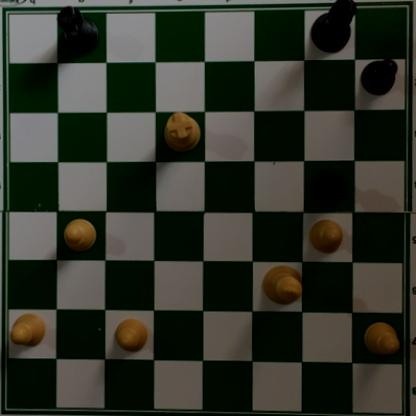black-bishop: (308, 169, 347, 208)
black-king: (309, 1, 358, 54)
black-pawn: (360, 56, 399, 95)
black-rook: (56, 3, 99, 55)
white-king: (261, 263, 304, 306)
white-pawn: (9, 309, 47, 351), (362, 321, 401, 360), (61, 216, 100, 254), (112, 316, 150, 352), (308, 218, 345, 254)
white-rook: (161, 111, 200, 154)
